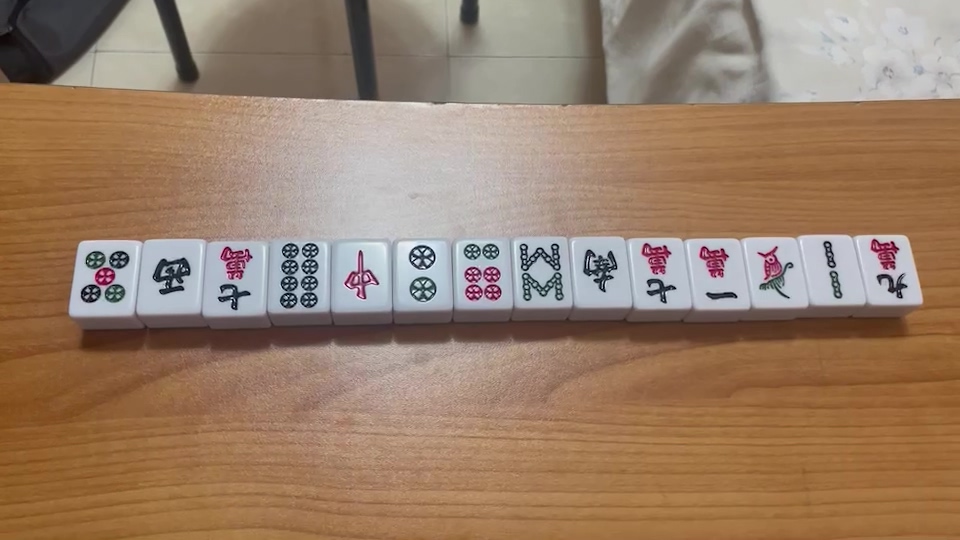b-1: (757, 246, 795, 300)
b-2: (820, 237, 847, 301)
b-8: (517, 242, 566, 306)
c-1: (697, 242, 743, 305)
c-7: (212, 245, 255, 313)
c-9: (866, 237, 911, 302)
d-2: (404, 244, 438, 301)
d-5: (79, 246, 131, 306)
d-6: (458, 243, 504, 305)
d-8: (277, 242, 320, 310)
honors-red: (339, 247, 381, 303)
honors-south: (634, 241, 679, 306), (580, 243, 620, 293)
honors-west: (149, 255, 192, 299)
